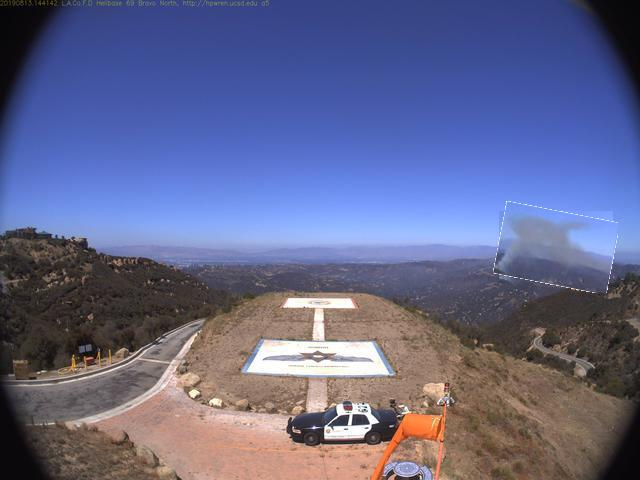smoke: (497, 207, 618, 290)
